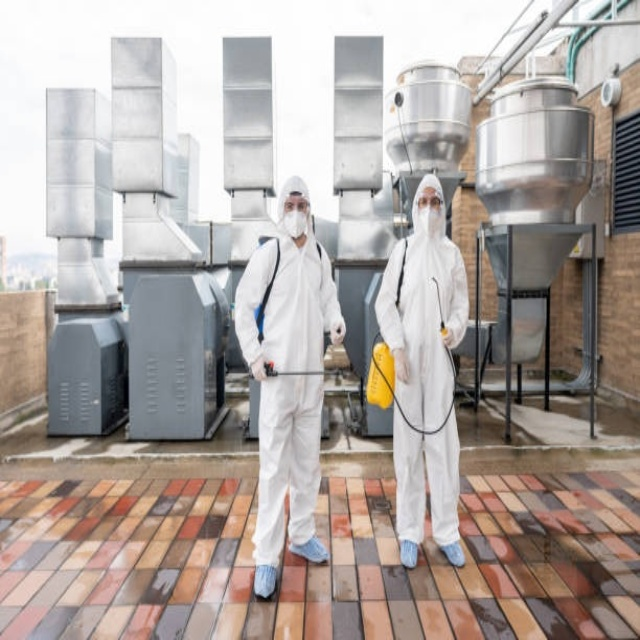Gafas: (418, 196, 442, 208), (284, 201, 308, 211)
Guantes: (393, 349, 410, 386), (250, 353, 269, 381), (331, 318, 346, 344), (441, 325, 454, 348)
Mascara: (418, 206, 443, 236), (284, 209, 308, 239)
Sin_gafas: (284, 202, 307, 212)
